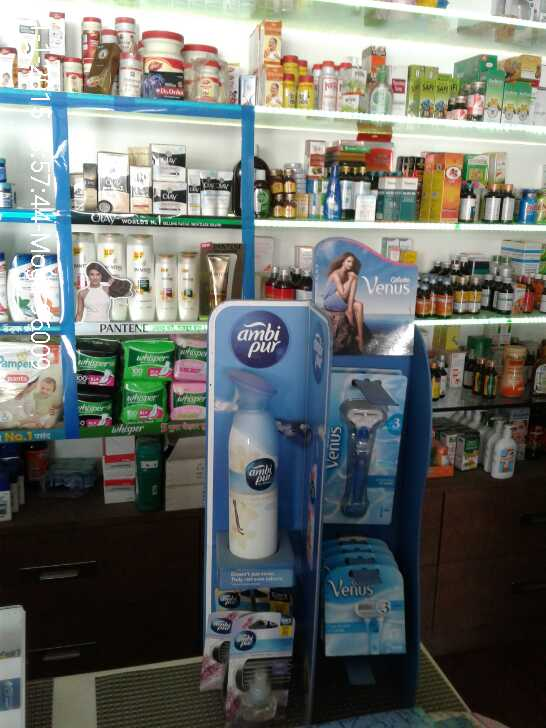beauty: (320, 365, 398, 526), (320, 566, 408, 657), (127, 234, 157, 323), (98, 148, 131, 213), (178, 250, 201, 317), (156, 256, 178, 320), (11, 256, 33, 320), (152, 143, 186, 181), (128, 166, 152, 212), (154, 182, 185, 217), (83, 163, 100, 211), (215, 168, 232, 215), (200, 172, 213, 215), (188, 170, 200, 213)
home: (226, 362, 284, 562), (221, 614, 294, 725)
pharmacy: (1, 339, 60, 428), (67, 340, 118, 386), (119, 340, 175, 381), (172, 337, 209, 382), (122, 382, 164, 421), (73, 385, 115, 422), (168, 383, 207, 420)
